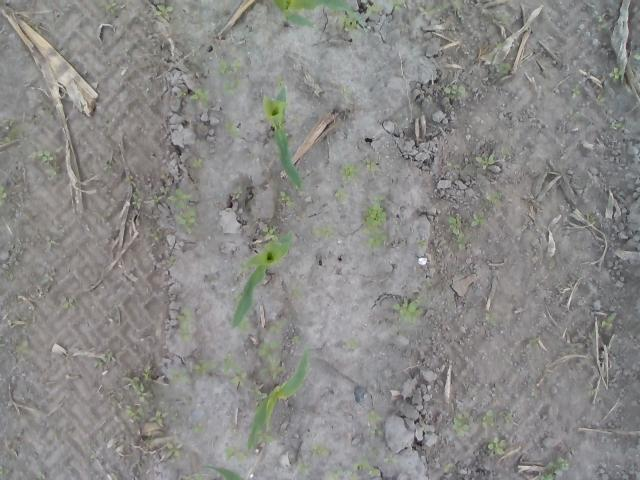Maize: (247, 348, 312, 452), (232, 228, 295, 326), (263, 84, 304, 190), (270, 0, 352, 31), (206, 462, 244, 480)
Weeds: (362, 196, 391, 254), (168, 187, 198, 234), (127, 366, 151, 422), (259, 338, 288, 378), (391, 294, 427, 326), (448, 208, 473, 252), (217, 56, 242, 94), (222, 349, 246, 386), (32, 150, 62, 175), (175, 304, 193, 344), (542, 455, 570, 480), (0, 120, 26, 146), (339, 10, 367, 32), (355, 455, 382, 477), (479, 190, 506, 211), (453, 408, 472, 437), (416, 0, 450, 16), (441, 80, 468, 100), (190, 359, 217, 378), (367, 408, 384, 438), (339, 162, 361, 185), (326, 464, 356, 480), (310, 224, 338, 241), (487, 434, 508, 456), (171, 366, 192, 386), (148, 407, 170, 426), (190, 86, 210, 106), (223, 119, 241, 141), (225, 447, 248, 464), (475, 152, 498, 169), (276, 189, 296, 208), (247, 383, 268, 401), (489, 10, 514, 25), (334, 186, 351, 208), (165, 440, 184, 459), (310, 441, 331, 458), (592, 88, 608, 110), (492, 60, 514, 76), (361, 0, 384, 15), (480, 409, 498, 428), (14, 334, 31, 354), (154, 3, 176, 17), (600, 312, 617, 330), (271, 317, 287, 336), (260, 224, 278, 240), (608, 64, 624, 82), (471, 212, 488, 228), (130, 191, 144, 210), (360, 159, 380, 172), (596, 14, 608, 33), (41, 272, 57, 286), (104, 0, 118, 16), (0, 182, 8, 208), (485, 310, 497, 327), (500, 410, 513, 424), (62, 297, 76, 310), (493, 37, 508, 49), (344, 338, 362, 348), (296, 463, 312, 474), (387, 0, 402, 11), (570, 85, 582, 98), (190, 158, 203, 170), (238, 318, 252, 329), (262, 431, 273, 445), (383, 454, 398, 464), (585, 212, 597, 224), (275, 72, 284, 88), (104, 160, 113, 176), (442, 463, 456, 473), (234, 186, 244, 200), (414, 238, 428, 248), (526, 336, 536, 349), (192, 422, 205, 432), (0, 465, 10, 477), (232, 291, 242, 303), (609, 121, 623, 129), (193, 472, 207, 480), (290, 286, 300, 296), (150, 230, 160, 240), (291, 334, 301, 344), (151, 195, 162, 203), (167, 255, 176, 264), (94, 360, 104, 368), (46, 239, 56, 247), (126, 175, 134, 184), (180, 88, 188, 96), (425, 280, 433, 288)
